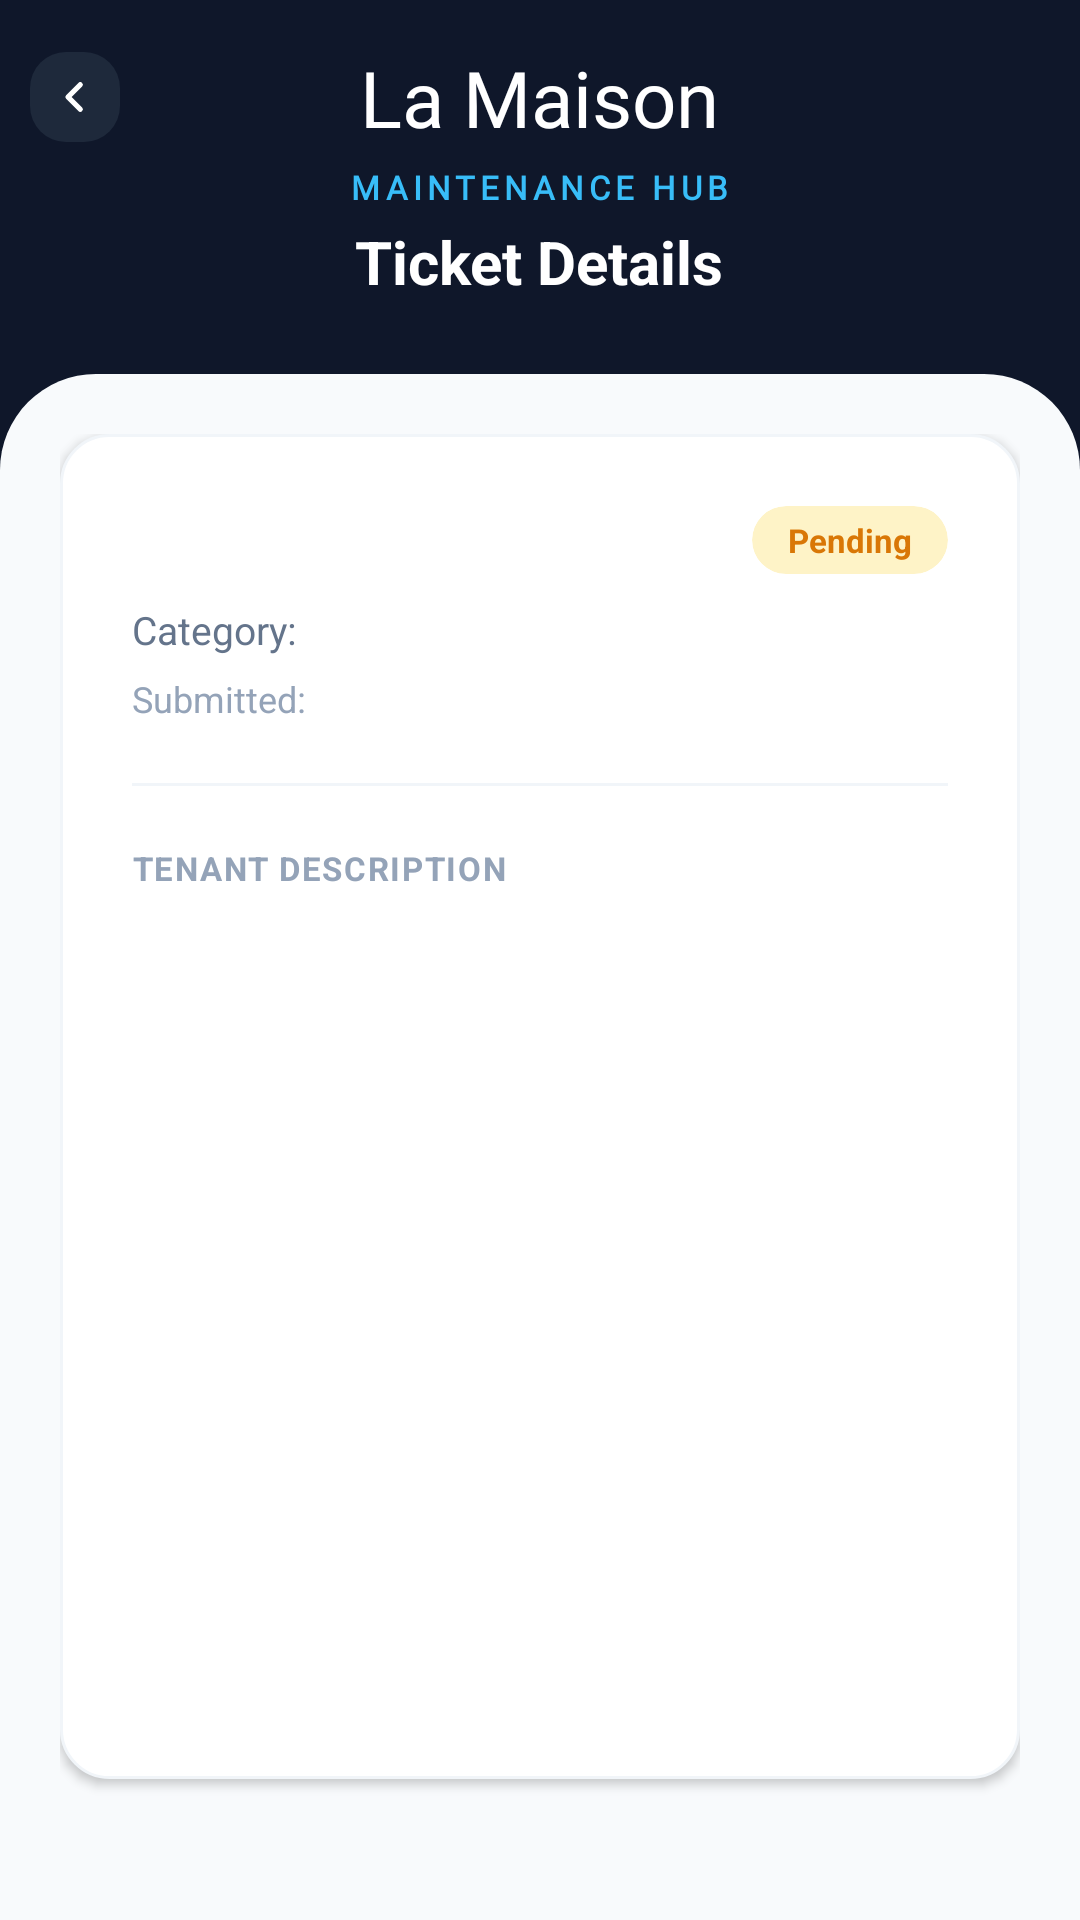

Screen size 1080px x 1920px. Icon name, then its center in pixels as [x,y]:
chevron left: [75,97]
